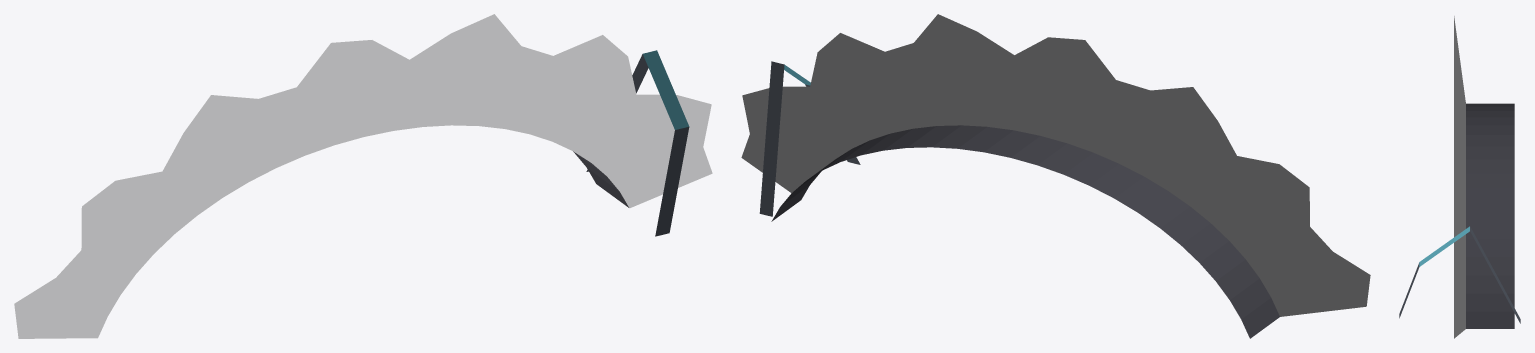
Rendered from ellen_maid_headdress.glb.
The picture shows the model from 3 angles, left to right: view 1: azimuth 30°, elevation 25°; view 2: azimuth 150°, elevation 25°; view 3: azimuth 270°, elevation 25°; orthographic projection. The views are drawn at different scales.
Parts seen in each view (by area): view 1: MaidHeaddressNode; view 2: MaidHeaddressNode; view 3: MaidHeaddressNode.
Boxes of the visible parts, x1,y1,x2,y2 form: MaidHeaddressNode: (14,14,712,338); MaidHeaddressNode: (741,14,1370,338); MaidHeaddressNode: (1399,16,1520,338).
Size of the model in its own units: 0.2902 by 0.0979 by 0.06.
